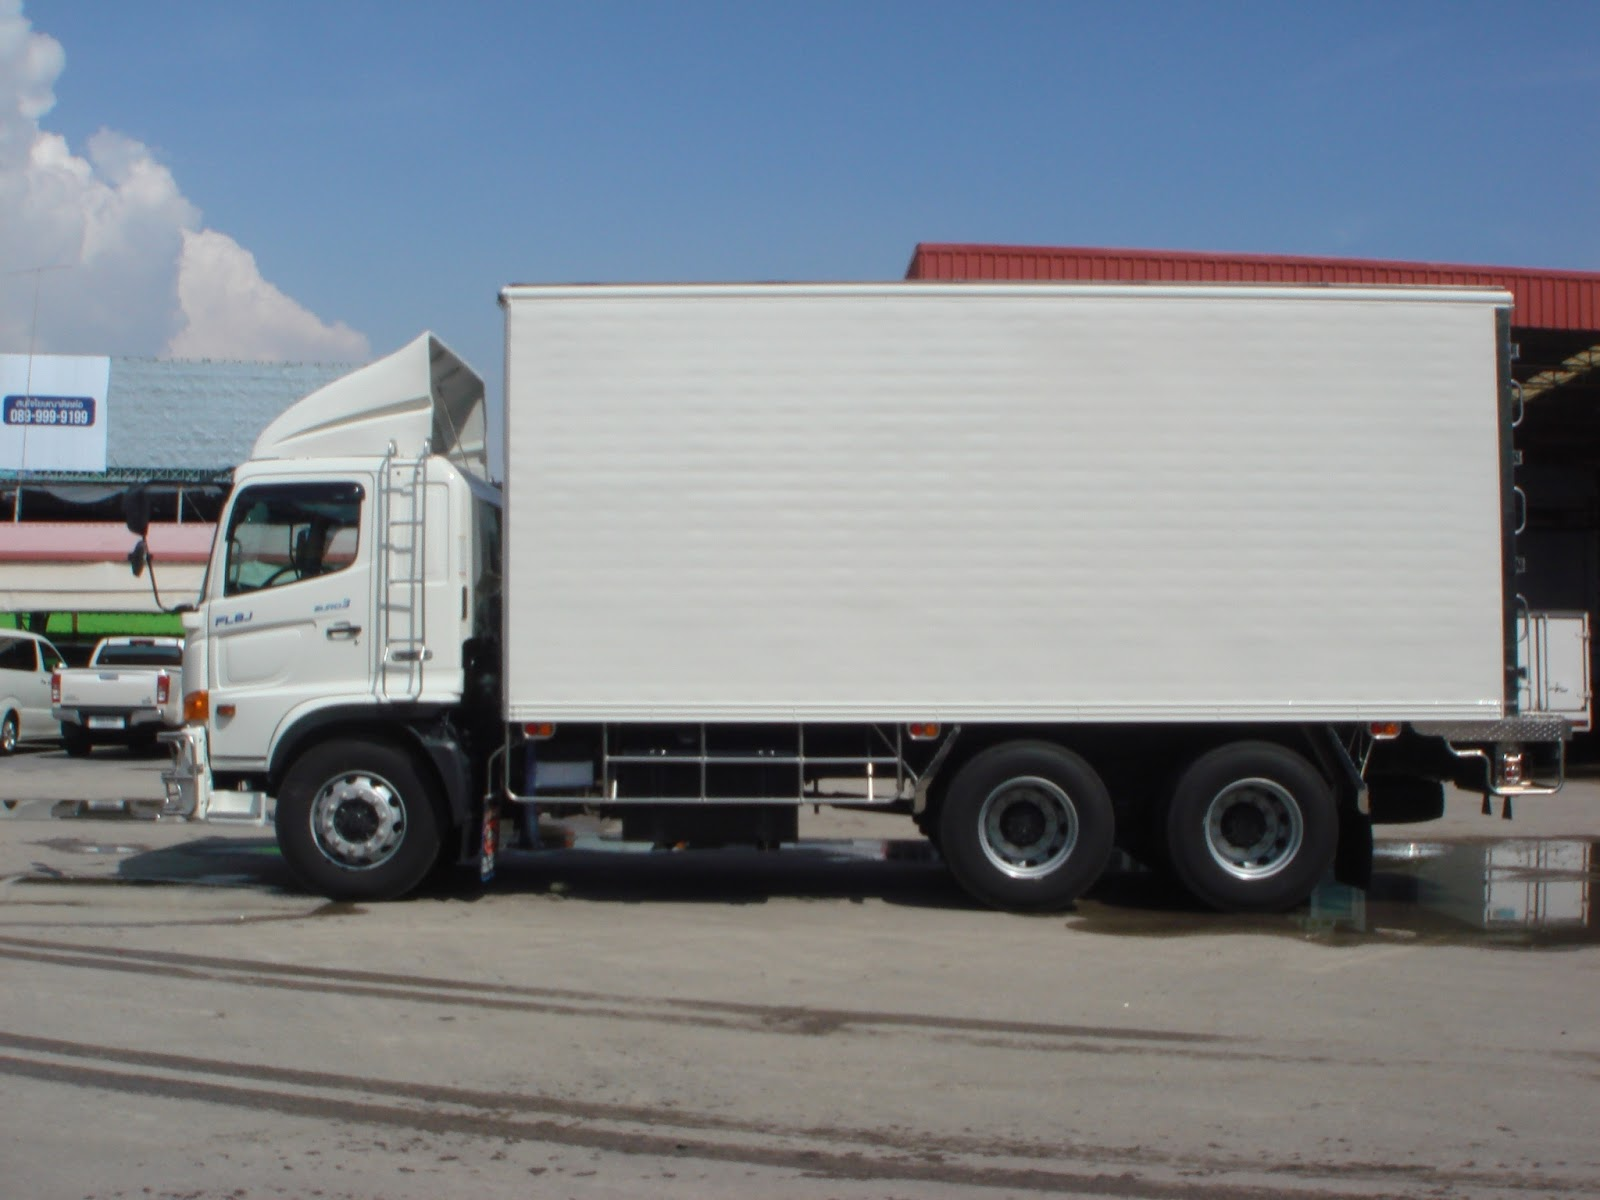truck: (173, 279, 1516, 908)
